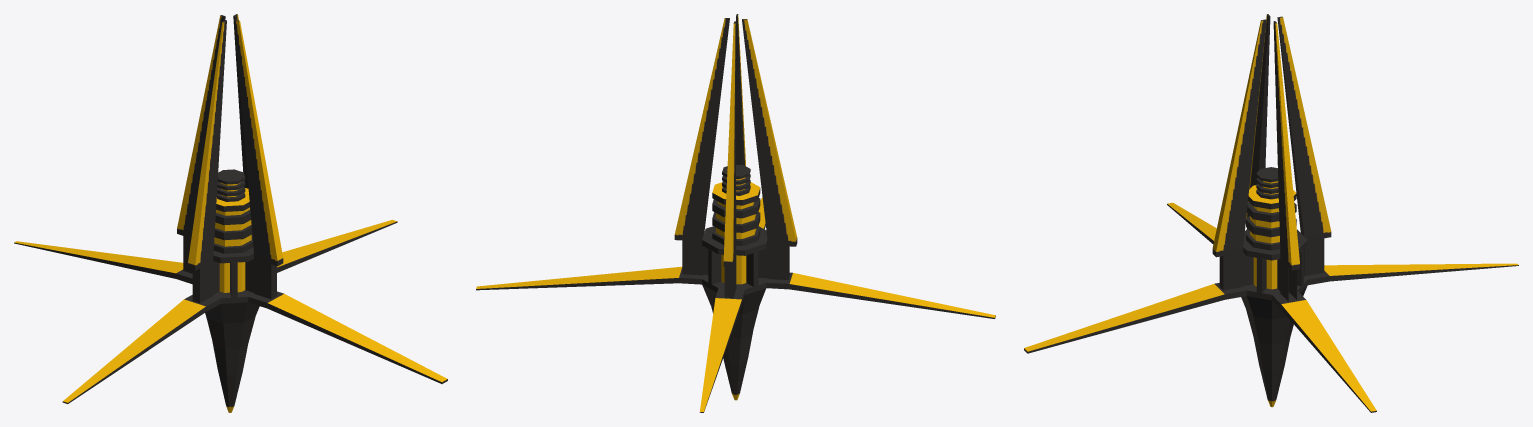
The model's file is Anchor Sticking.fbx.
3 renders of one model, left to right at view 1: azimuth 30°, elevation 25°; view 2: azimuth 150°, elevation 25°; view 3: azimuth 270°, elevation 25°, orthographic. The views are drawn at different scales.
Parts seen in each view (by area): view 1: Anchor Sticking; view 2: Anchor Sticking; view 3: Anchor Sticking.
Part boxes in pixels (x1,y1,x2,y2): Anchor Sticking: (14, 14, 447, 412); Anchor Sticking: (476, 14, 995, 412); Anchor Sticking: (1024, 14, 1518, 412).
Size of the model in its own units: 431 by 373 by 431.
